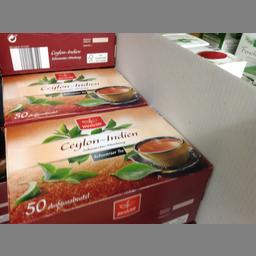tea: (2, 102, 212, 220), (0, 66, 146, 124)
